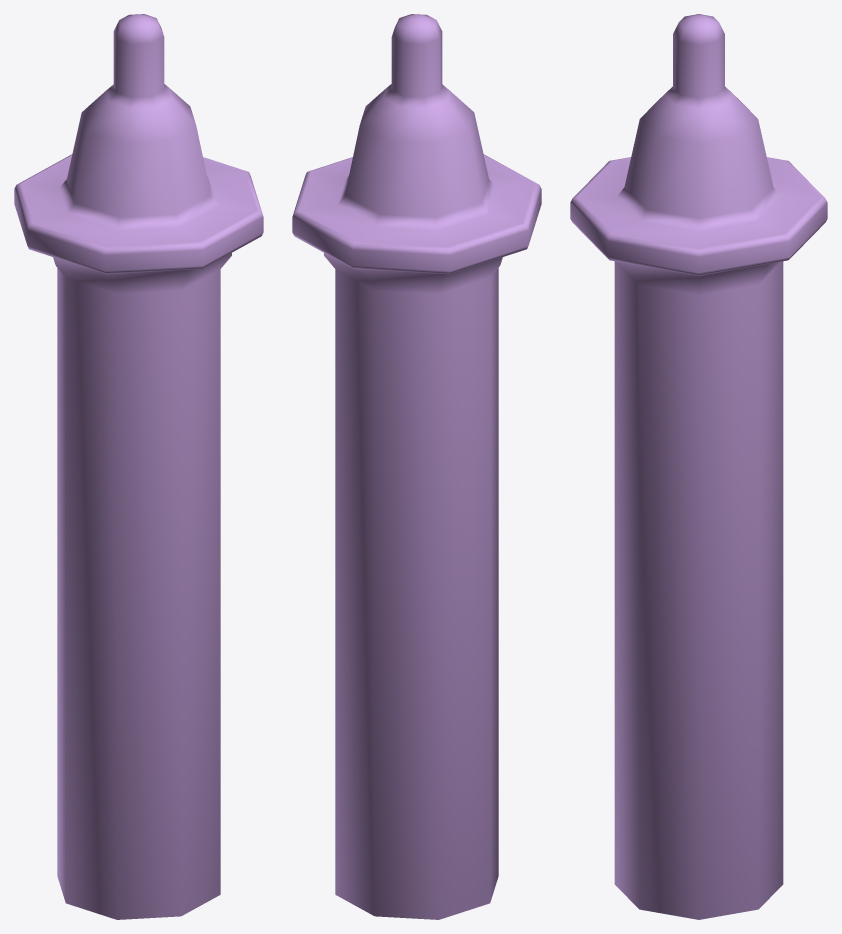
File: G_Background_Tank_B.fbx
3 renders of one model, left to right at view 1: azimuth 30°, elevation 25°; view 2: azimuth 150°, elevation 25°; view 3: azimuth 270°, elevation 25°, orthographic.
Parts seen in each view (by area): view 1: G_Background_Tank_B; view 2: G_Background_Tank_B; view 3: G_Background_Tank_B.
Boxes of the visible parts, bbox=[...] form: G_Background_Tank_B: bbox=[14, 14, 263, 919]; G_Background_Tank_B: bbox=[292, 14, 541, 919]; G_Background_Tank_B: bbox=[570, 14, 827, 919].
Size of the model in its own units: 717 by 2662 by 717.
